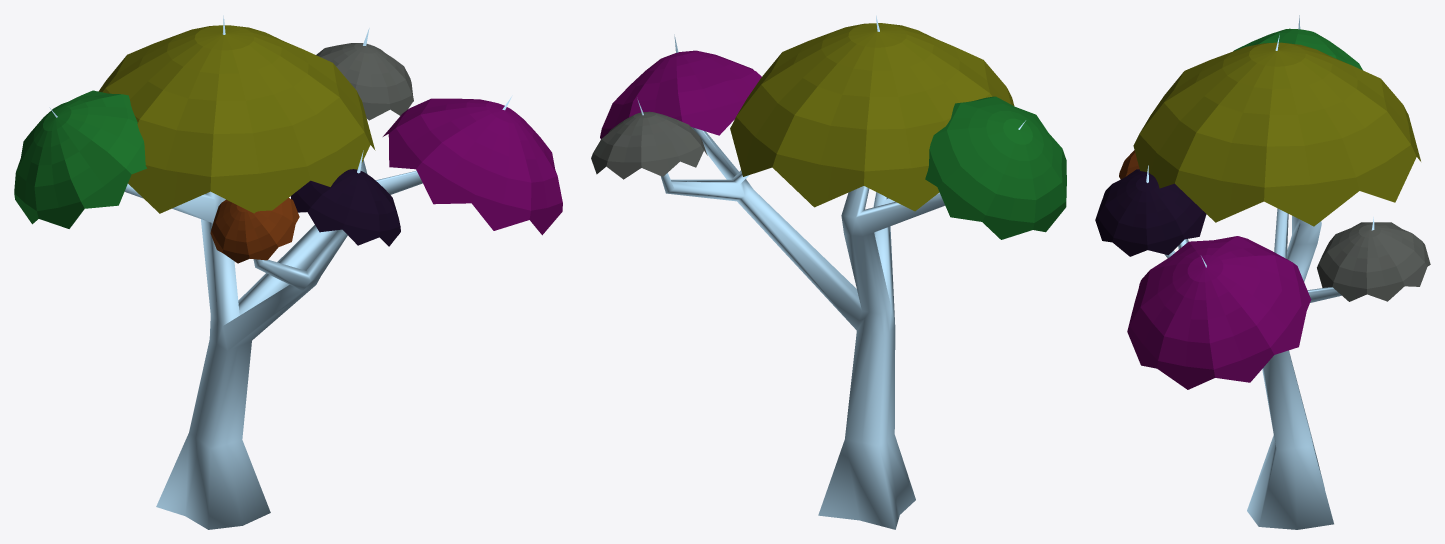
The model's file is umbrellatree_230221.fbx.
The picture shows the model from 3 angles, left to right: view 1: azimuth 30°, elevation 25°; view 2: azimuth 150°, elevation 25°; view 3: azimuth 270°, elevation 25°; orthographic projection. The views are drawn at different scales.
Parts seen in each view (by area): view 1: umbrellatree; view 2: umbrellatree; view 3: umbrellatree.
Part boxes in pixels (x1,y1,x2,y2): umbrellatree: [14, 15, 562, 529]; umbrellatree: [591, 15, 1066, 529]; umbrellatree: [1095, 15, 1430, 529].
Bounding box in the file's own units: 526 × 514 × 328.
